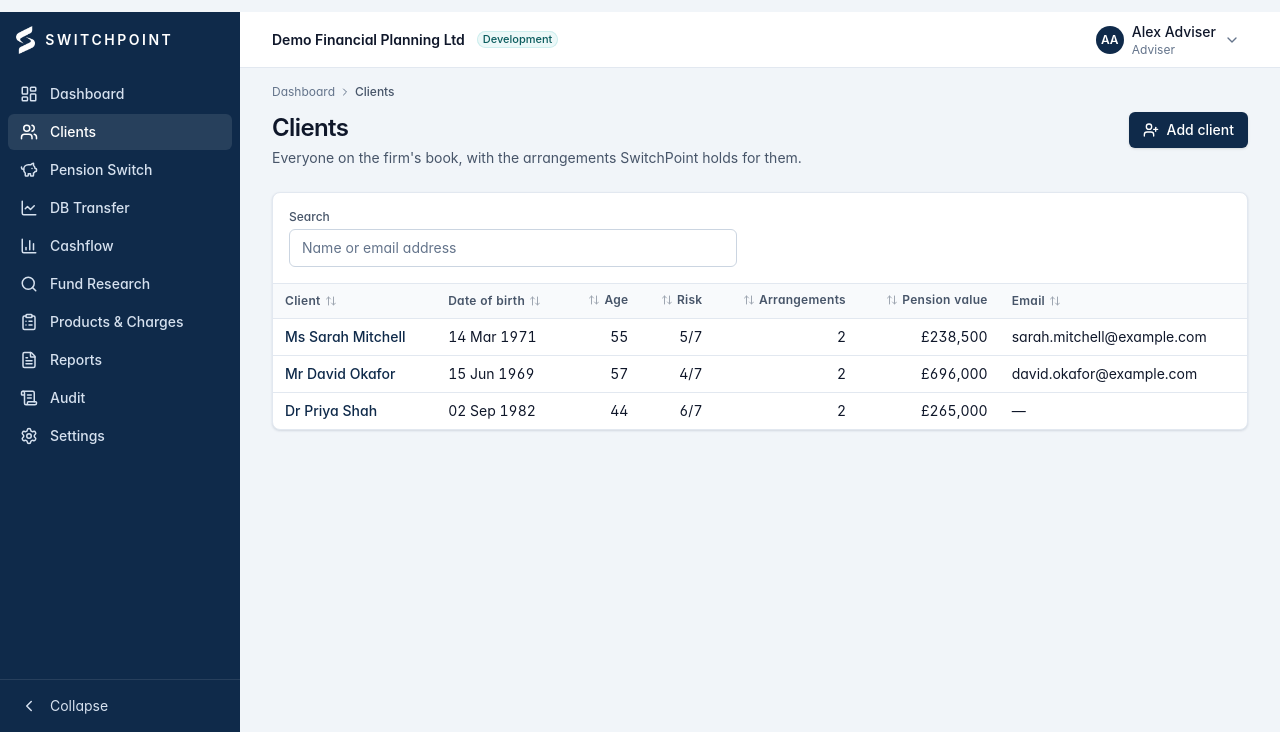
it: clients › opens a client on their arrangements rather than their personal details
Click the link "Ms Sarah Mitchell": (345, 336) [285,328,406,345]
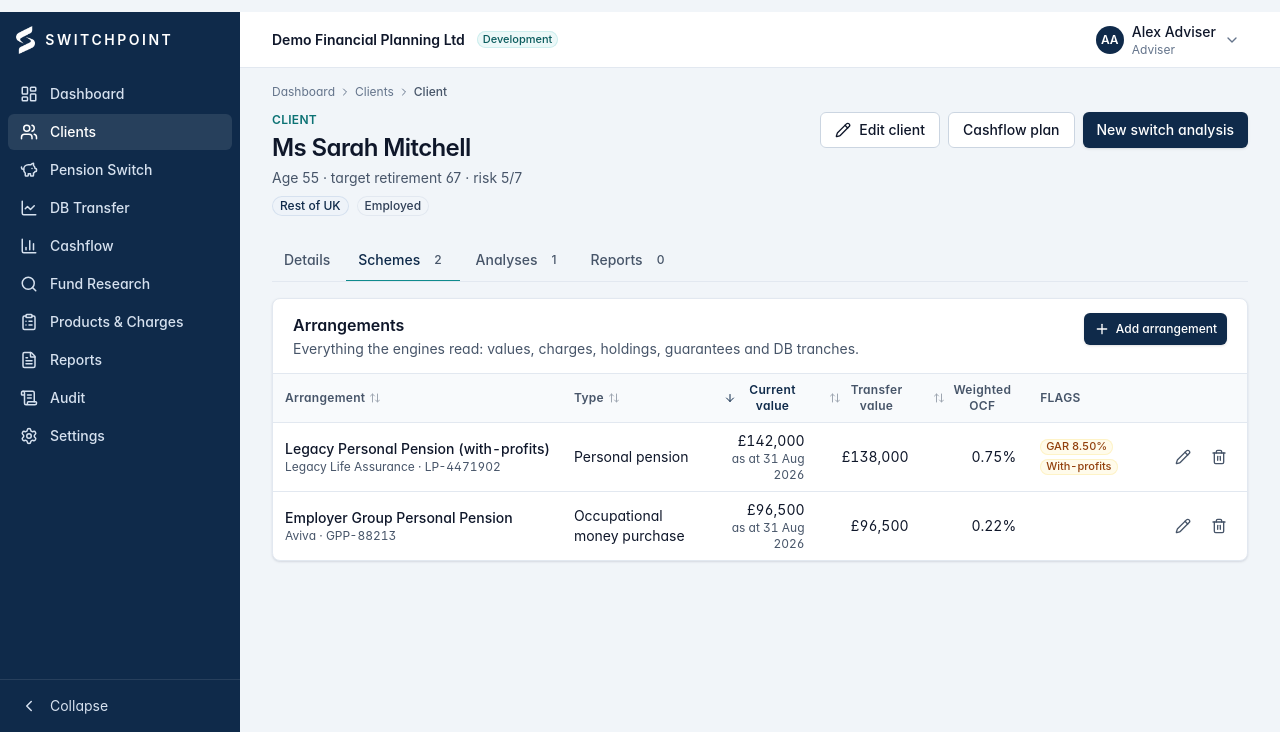
Expected: the heading "Ms Sarah Mitchell" is shown, [272,133,471,162]
Expected: the text "Legacy Personal Pension (with-profits)" is shown, [285,439,550,459]
